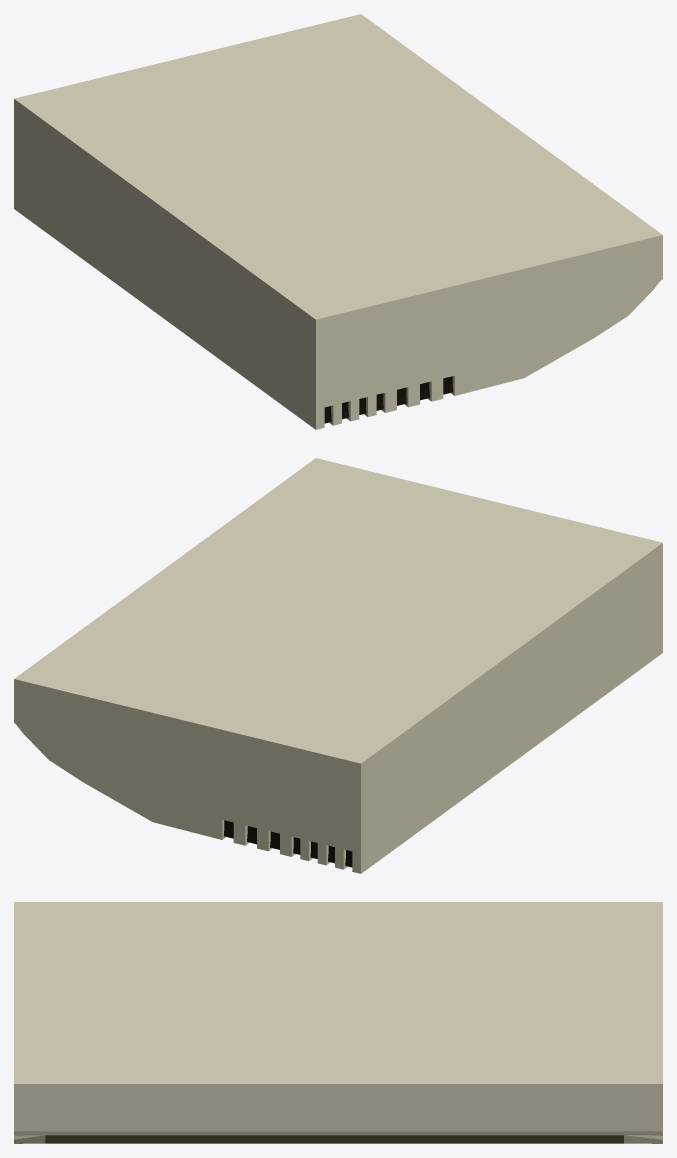
File: AireAcondicionado.fbx
The picture shows the model from 3 angles, top to bottom: view 1: azimuth 30°, elevation 25°; view 2: azimuth 150°, elevation 25°; view 3: azimuth 270°, elevation 25°; orthographic projection. The views are drawn at different scales.
Visible parts, largest first — view 1: Cube; view 2: Cube; view 3: Cube.
Part boxes in pixels (x1,y1,x2,y2): Cube: (14, 14, 662, 429); Cube: (14, 458, 662, 873); Cube: (14, 902, 662, 1143).
Size of the model in its own units: 404 by 123 by 609.
